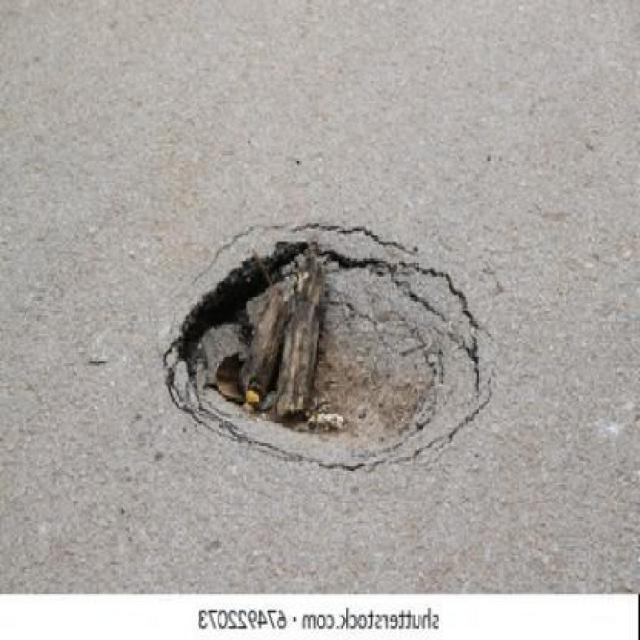pothole: (158, 217, 498, 471)
